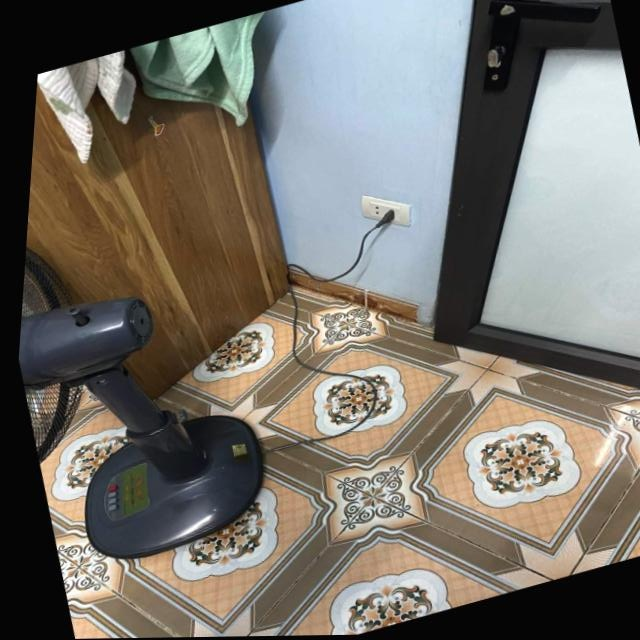outlet: (354, 184, 417, 239)
